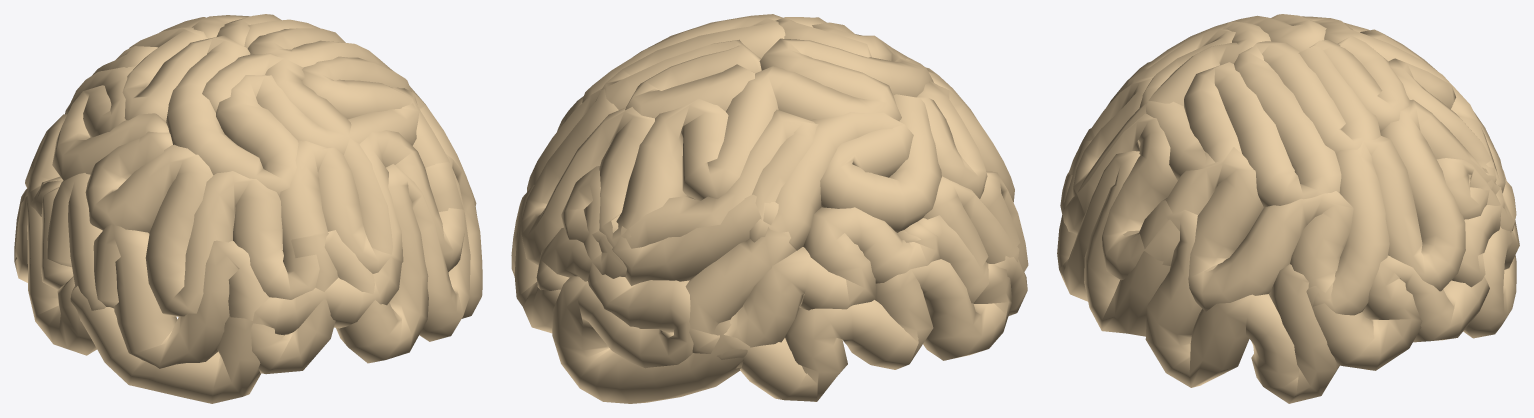
The model's file is coral4.fbx.
3 views of the same model, side by side, from view 1: azimuth 30°, elevation 25°; view 2: azimuth 150°, elevation 25°; view 3: azimuth 270°, elevation 25° (orthographic). The views are drawn at different scales.
Parts seen in each view (by area): view 1: Object_8; view 2: Object_8; view 3: Object_8.
Boxes of the visible parts, <box> form: Object_8: <box>14,14,482,403</box>; Object_8: <box>511,14,1028,403</box>; Object_8: <box>1057,14,1519,403</box>.
Bounding box in the file's own units: 11.37 × 7.64 × 11.4.
Materials: 1 (1 with a texture image).
